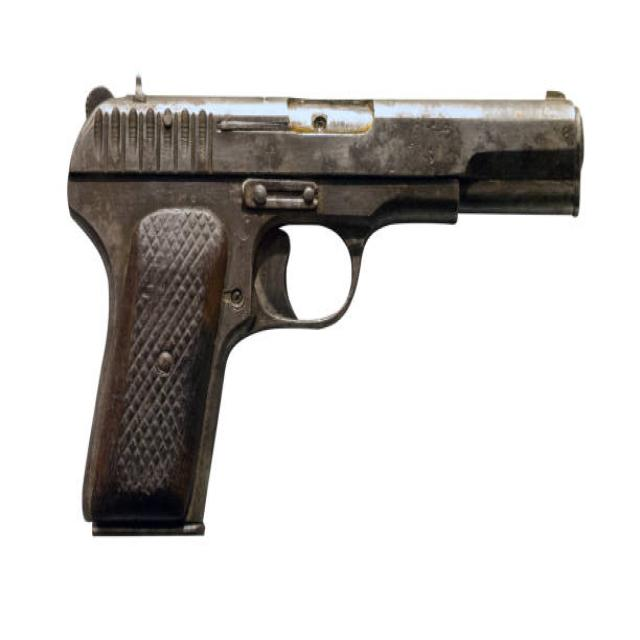pistol: (64, 74, 592, 548)
